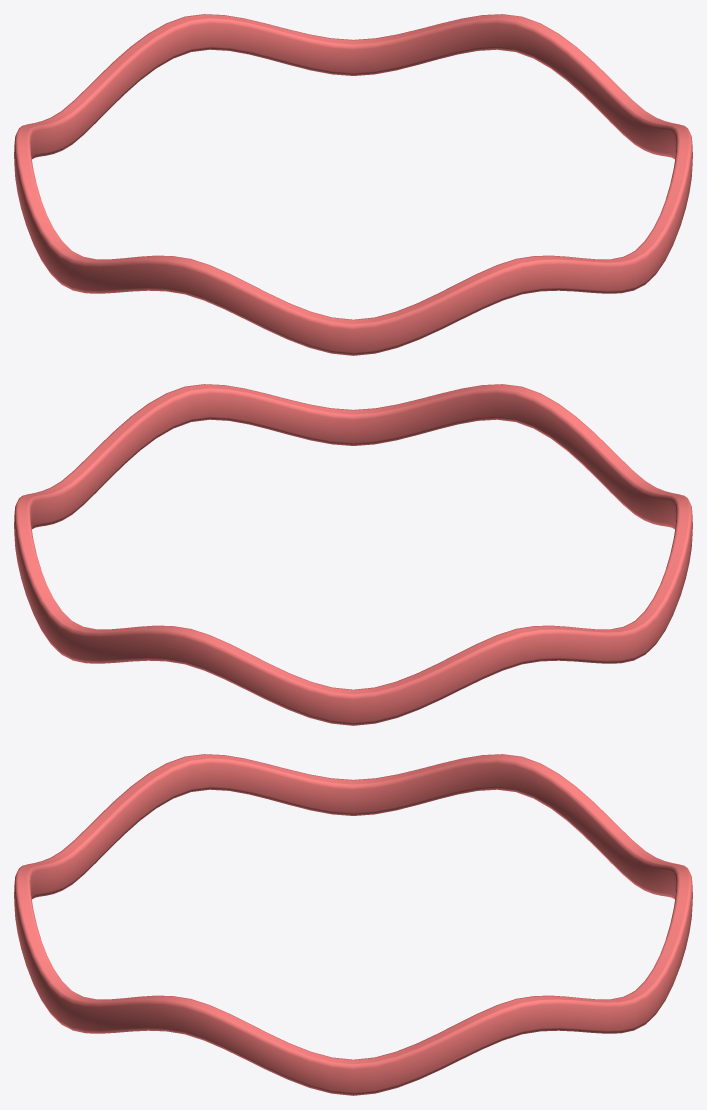
Rendered from 4-pink.fbx.
3 renders of one model, top to bottom at view 1: azimuth 30°, elevation 25°; view 2: azimuth 150°, elevation 25°; view 3: azimuth 270°, elevation 25°, orthographic.
Visible parts, largest first — view 1: Cylinder002; view 2: Cylinder002; view 3: Cylinder002.
Boxes of the visible parts, x1,y1,x2,y2 form: Cylinder002: [14, 14, 692, 355]; Cylinder002: [14, 384, 692, 725]; Cylinder002: [14, 754, 692, 1095].
Size of the model in its own units: 19.96 by 2.38 by 19.96.
